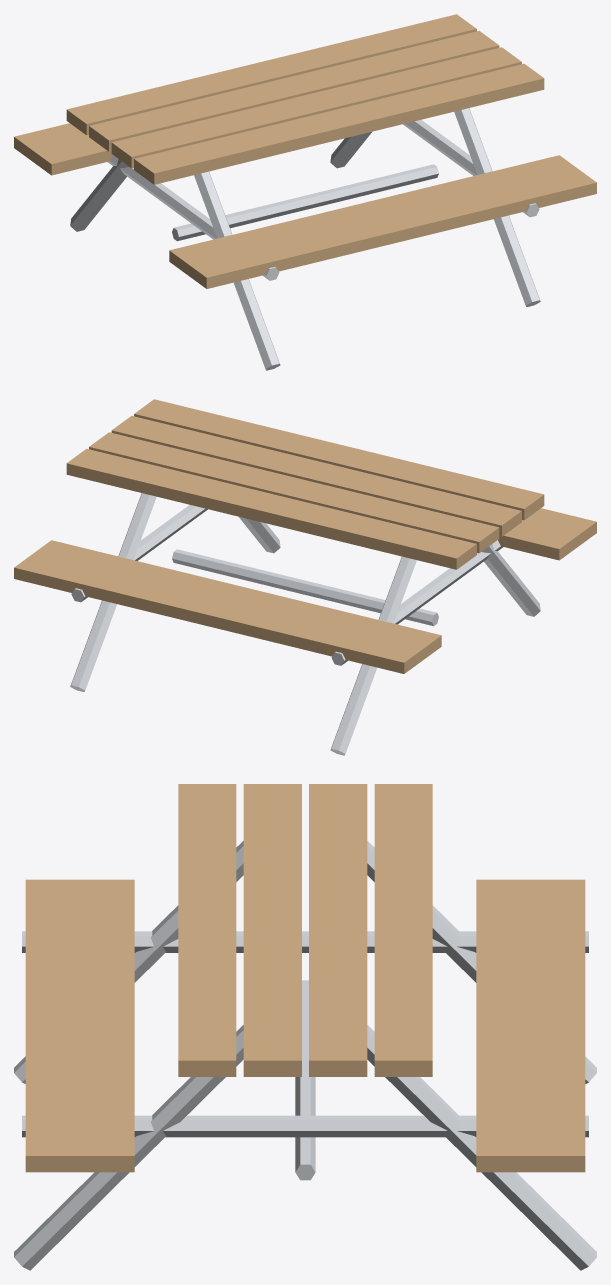
Rendered from street-food-market-and-food-trucks-picnic-bench-0f446ae7.glb.
The picture shows the model from 3 angles, top to bottom: view 1: azimuth 30°, elevation 25°; view 2: azimuth 150°, elevation 25°; view 3: azimuth 270°, elevation 25°; orthographic projection. The views are drawn at different scales.
Parts seen in each view (by area): view 1: picnic-bench-timber, picnic-bench-steel; view 2: picnic-bench-timber, picnic-bench-steel; view 3: picnic-bench-timber, picnic-bench-steel.
Part boxes in pixels (<box>): picnic-bench-timber: <box>14,14,596,288</box>; picnic-bench-steel: <box>70,108,540,370</box>; picnic-bench-timber: <box>14,399,596,673</box>; picnic-bench-steel: <box>70,493,540,755</box>; picnic-bench-timber: <box>25,784,585,1172</box>; picnic-bench-steel: <box>14,841,596,1270</box>.
Bounding box in the file's own units: 1.8 × 0.7704 × 1.6.
